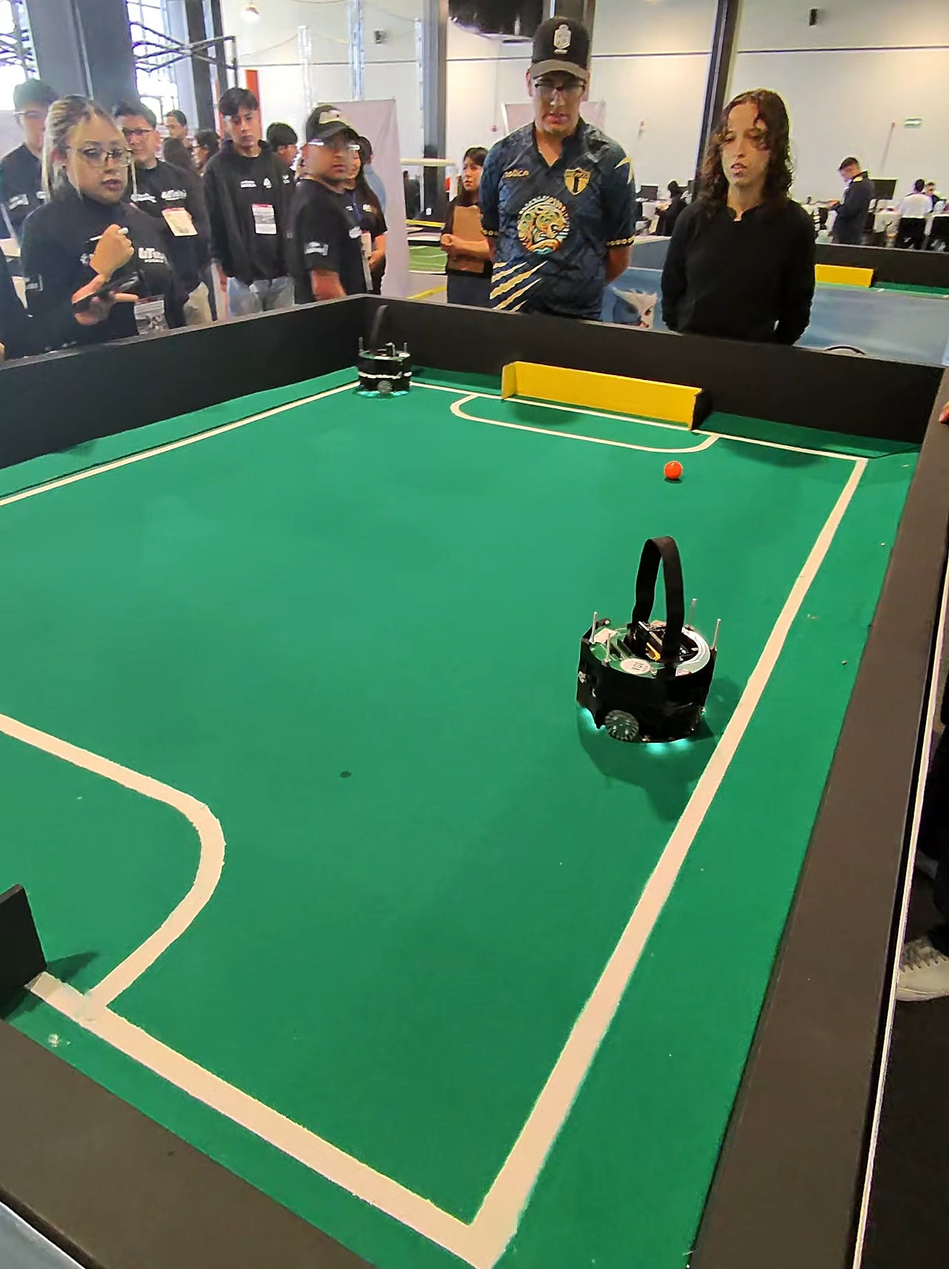Robot: (552, 515, 759, 780), (343, 286, 429, 420)
pelota: (644, 458, 706, 499)
